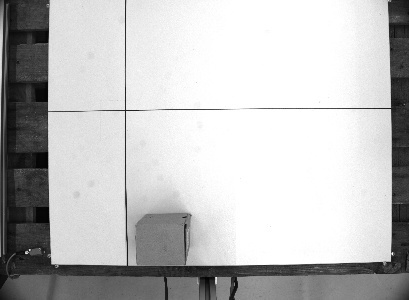b5: (132, 210, 192, 269)
